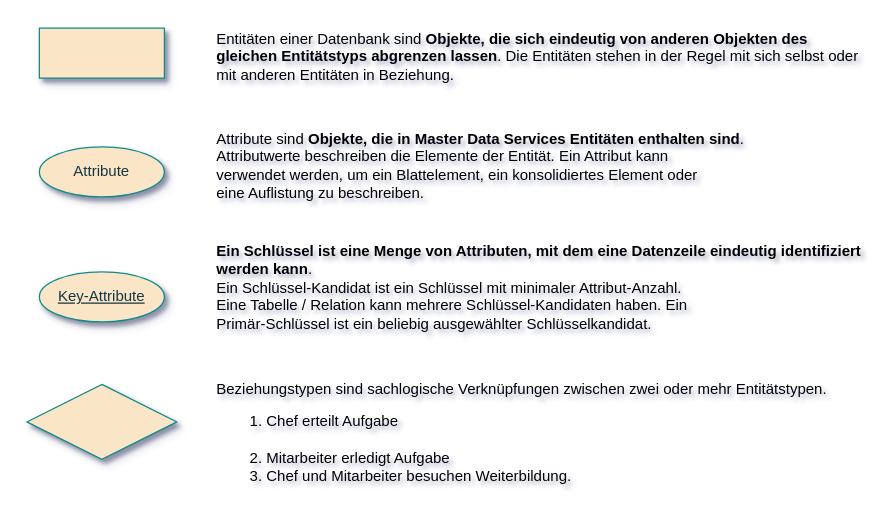
Image size: 894x529. Some labels were removed from this diagram. The shapes that lost their labels are listed below. From the top down, each one's centre as x and y in pixels, then its label:
At pixel 102 54: "Entity".
At pixel 102 423: "Relationship".
